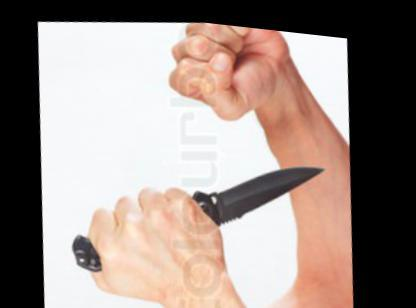knife: (130, 132, 349, 268)
